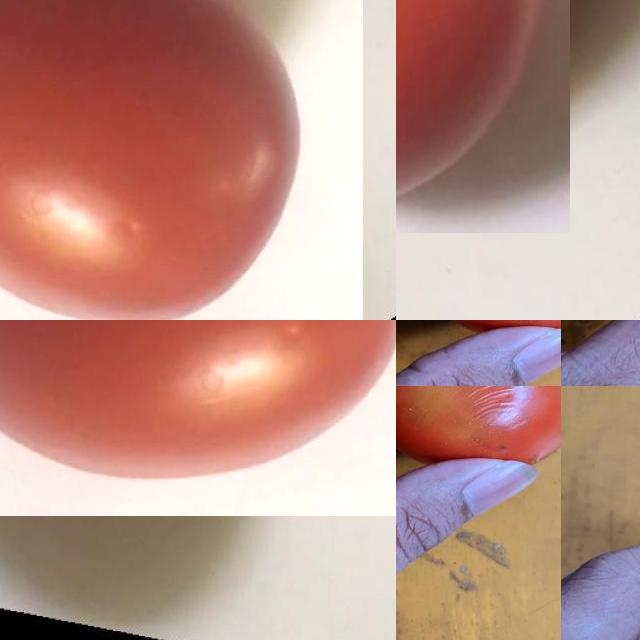0: (0, 320, 396, 515)
Fresh Tomato: (0, 0, 363, 320), (396, 0, 570, 233)
